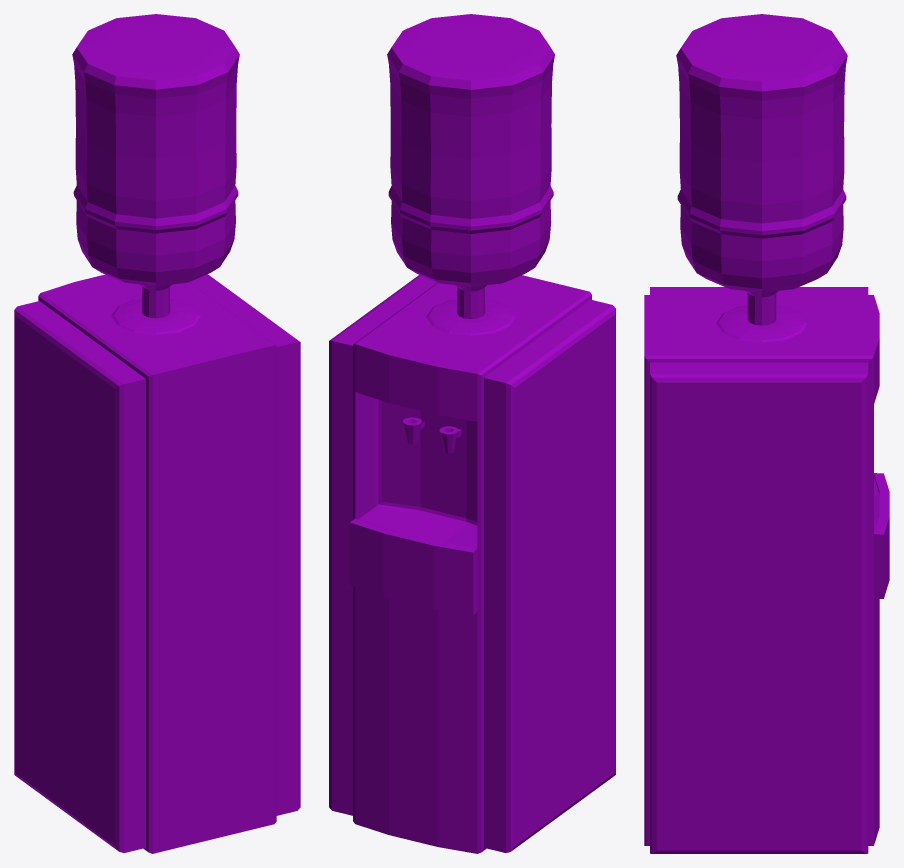
Rendered from Dispenser.fbx.
The picture shows the model from 3 angles, left to right: view 1: azimuth 30°, elevation 25°; view 2: azimuth 150°, elevation 25°; view 3: azimuth 270°, elevation 25°; orthographic projection. The views are drawn at different scales.
Visible parts, largest first — view 1: Dispenser; view 2: Dispenser; view 3: Dispenser.
Part boxes in pixels (box(x1,y1,x2,y2)): Dispenser: box(14, 14, 300, 853); Dispenser: box(329, 14, 615, 853); Dispenser: box(644, 14, 889, 853).
Bounding box in the file's own units: 0.4039 × 1.57 × 0.4536.
